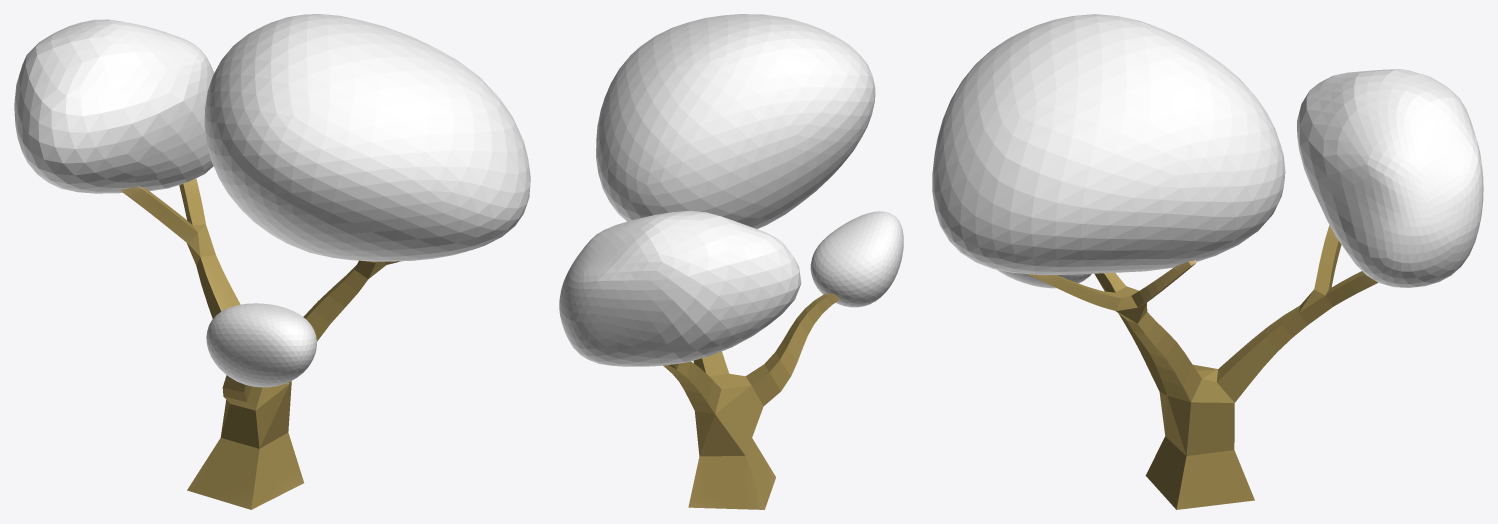
Rendered from winter.fbx.
3 views of the same model, side by side, from view 1: azimuth 30°, elevation 25°; view 2: azimuth 150°, elevation 25°; view 3: azimuth 270°, elevation 25° (orthographic). The views are drawn at different scales.
Parts seen in each view (by area): view 1: Icosphere_002; view 2: Icosphere_002; view 3: Icosphere_002.
Boxes of the visible parts, left/top/right/bottom form: Icosphere_002: left=14, top=14, right=530, bottom=509; Icosphere_002: left=559, top=14, right=903, bottom=509; Icosphere_002: left=932, top=14, right=1483, bottom=509.
Bounding box in the file's own units: 2159 × 2963 × 3131.
Materials: 1 (1 with a texture image).
